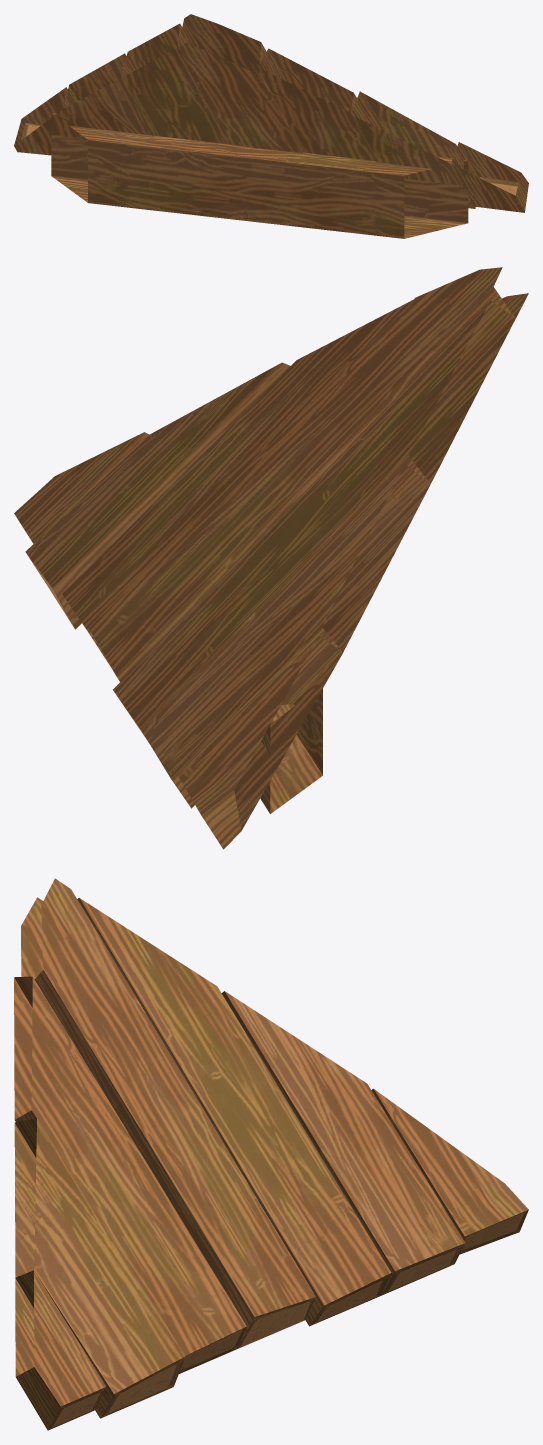
File: Roof_Wooden_2x1_Corner.glb
3 renders of one model, top to bottom at view 1: azimuth 30°, elevation 25°; view 2: azimuth 150°, elevation 25°; view 3: azimuth 270°, elevation 25°, orthographic. The views are drawn at different scales.
Visible parts, largest first — view 1: Roof_Wooden_2x1_Corner; view 2: Roof_Wooden_2x1_Corner; view 3: Roof_Wooden_2x1_Corner.
Part boxes in pixels (box(x1,y1,x2,y2)): Roof_Wooden_2x1_Corner: box(14, 14, 528, 238); Roof_Wooden_2x1_Corner: box(14, 267, 528, 849); Roof_Wooden_2x1_Corner: box(14, 878, 528, 1430).
Size of the model in its own units: 1.54 by 1.18 by 1.56.
1 material, 1 textured.
